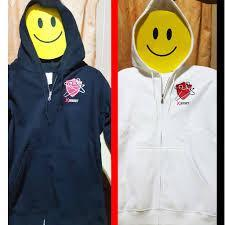sweater: (9, 0, 109, 225), (118, 0, 217, 225)
